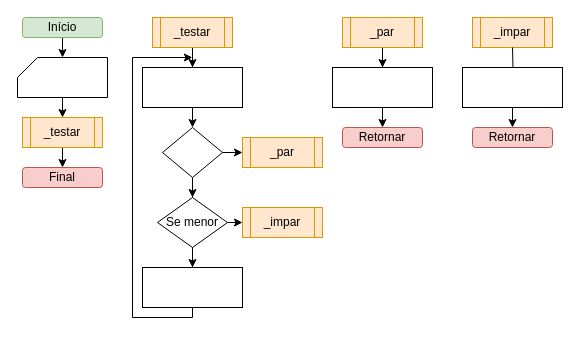
Some shapes in this 580 by 343 pixel diagram are drawn without their labels. The shapes that lost their labels are listed below. From the top down, each one's centre as x and y in pixels, then its label:
the point at 62,77: Receber parâmetro
the point at 192,87: Comparar EBX com 0
the point at 382,87: Mover 1 para o retorno
the point at 512,87: Mover 0 para o retorno
the point at 192,152: Se igual
the point at 192,287: Diminuir 2 em EBX
